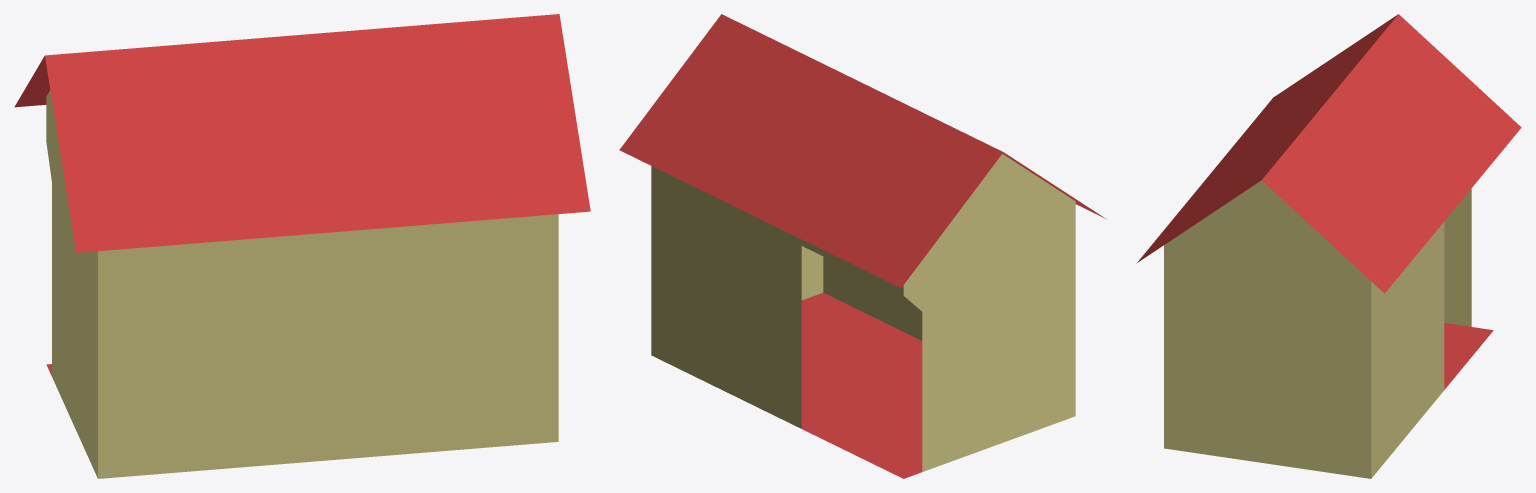
The picture shows the model from 3 angles, left to right: view 1: azimuth 30°, elevation 25°; view 2: azimuth 150°, elevation 25°; view 3: azimuth 270°, elevation 25°; orthographic projection. The views are drawn at different scales.
Size of the model in its own units: 21.94 by 17.62 by 14.75.
